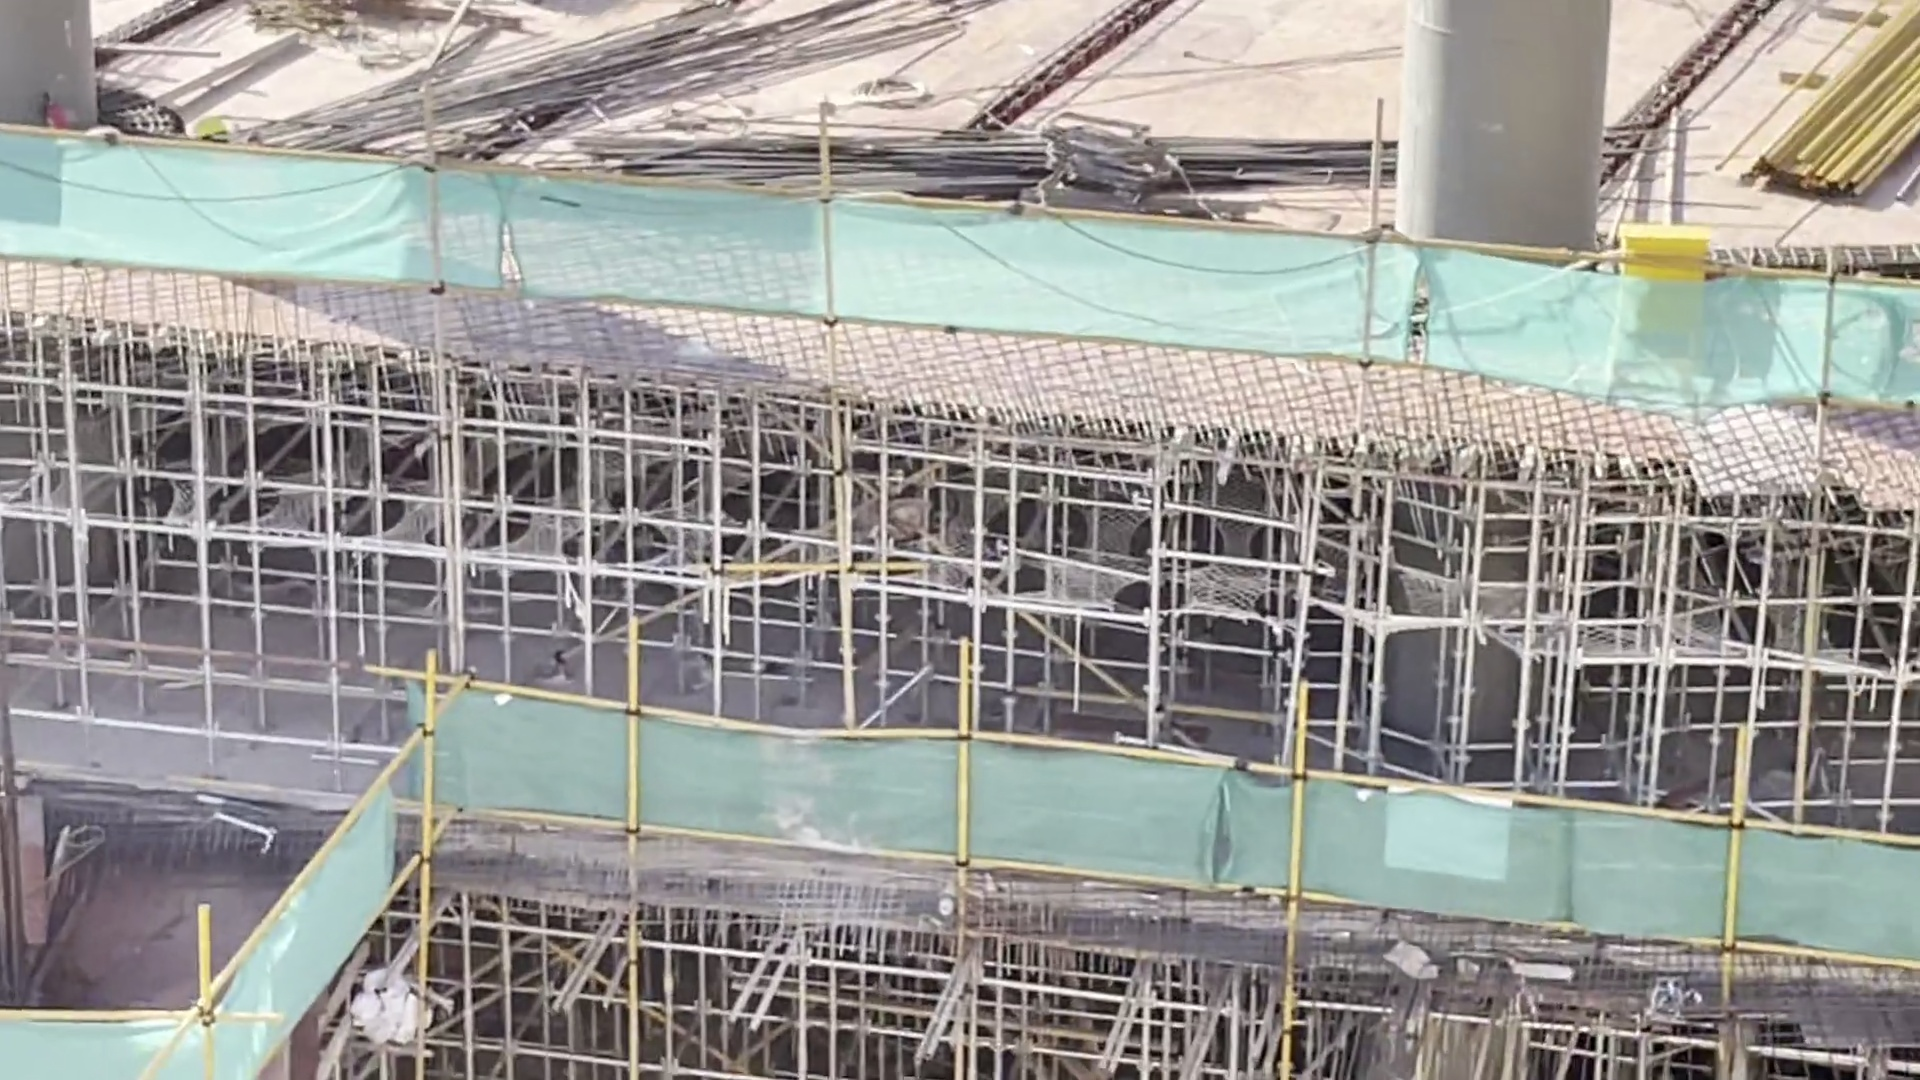ebox: (1600, 208, 1717, 357)
